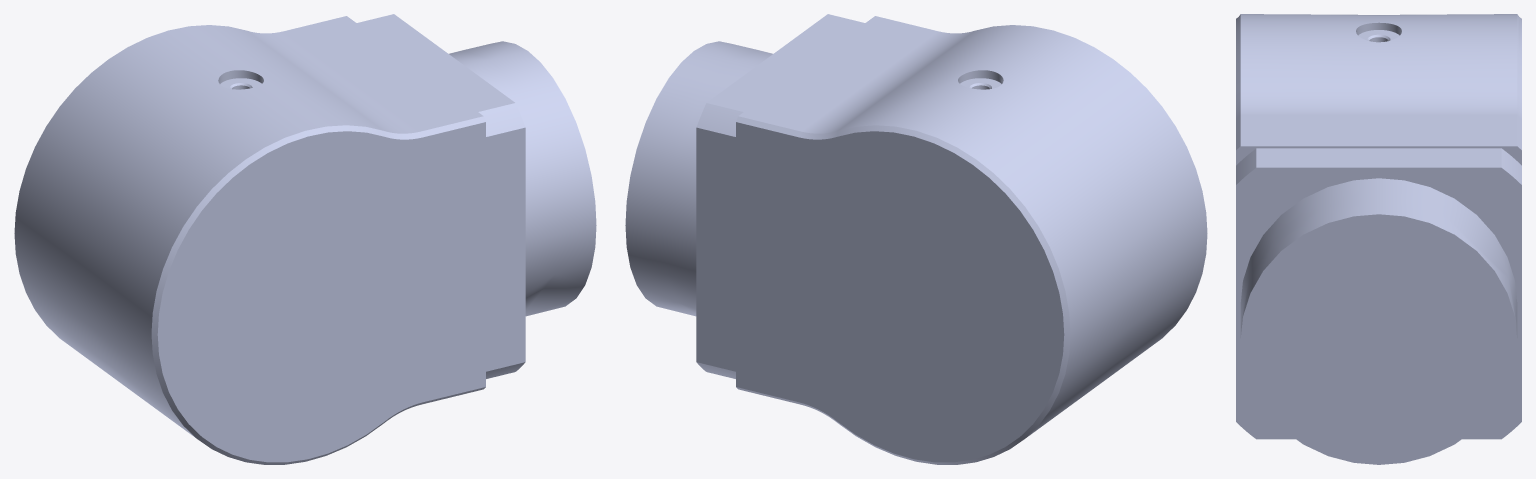
3 views of the same model, side by side, from view 1: azimuth 30°, elevation 25°; view 2: azimuth 150°, elevation 25°; view 3: azimuth 270°, elevation 25° (orthographic).
Parts seen in each view (by area): view 1: ac4364dd-0fc4-4684-b486-cbe91b5de291; view 2: ac4364dd-0fc4-4684-b486-cbe91b5de291; view 3: ac4364dd-0fc4-4684-b486-cbe91b5de291.
Boxes of the visible parts, <box> form: ac4364dd-0fc4-4684-b486-cbe91b5de291: <box>14,14,596,464</box>; ac4364dd-0fc4-4684-b486-cbe91b5de291: <box>625,14,1207,464</box>; ac4364dd-0fc4-4684-b486-cbe91b5de291: <box>1236,14,1521,464</box>.
Size of the model in its own units: 0.1125 by 0.062 by 0.08.
